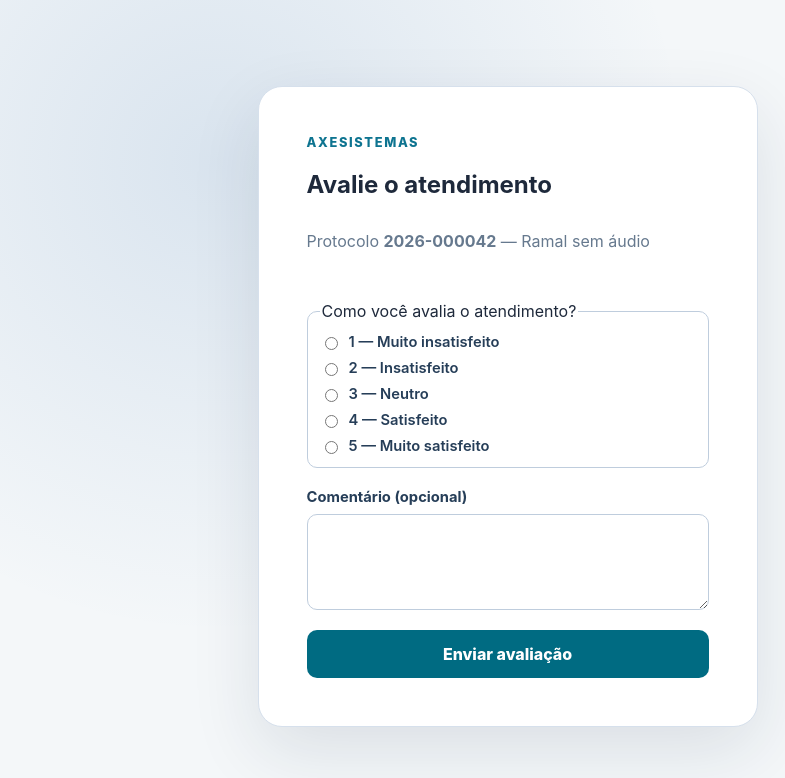
Test: C5.4 public satisfaction page › handles an answer registered meanwhile (409 on submit)
Click the radio button labelled "5 — Muito satisfeito" at (331, 448), box 324,441 -> 338,454
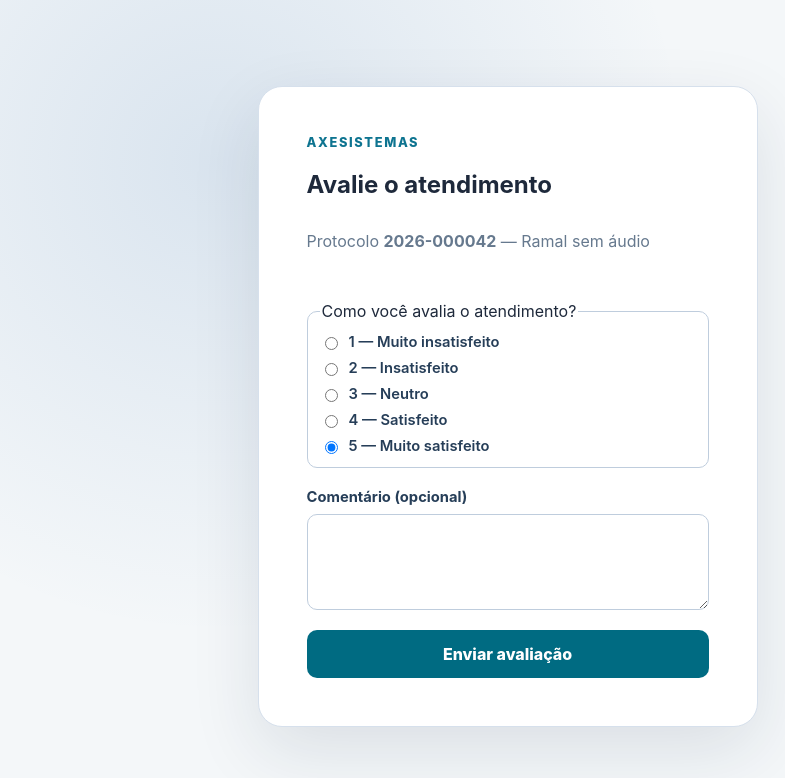
Click the button "Enviar avaliação" at (508, 654), box 306,630 -> 708,678
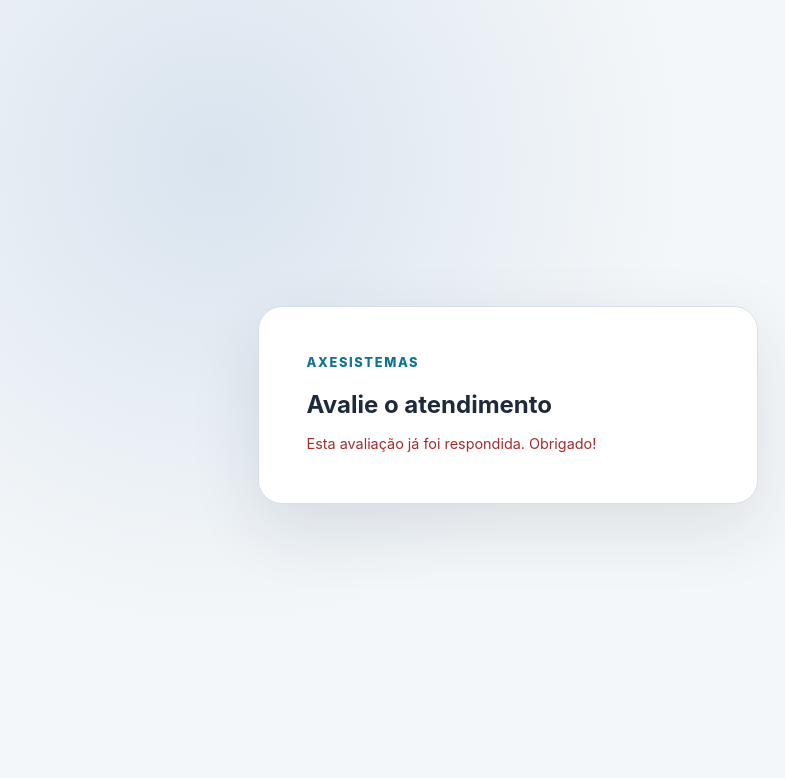
Expected: the message reads "Esta avaliação já foi respondida. Obrigado!", 306,436 -> 596,452
